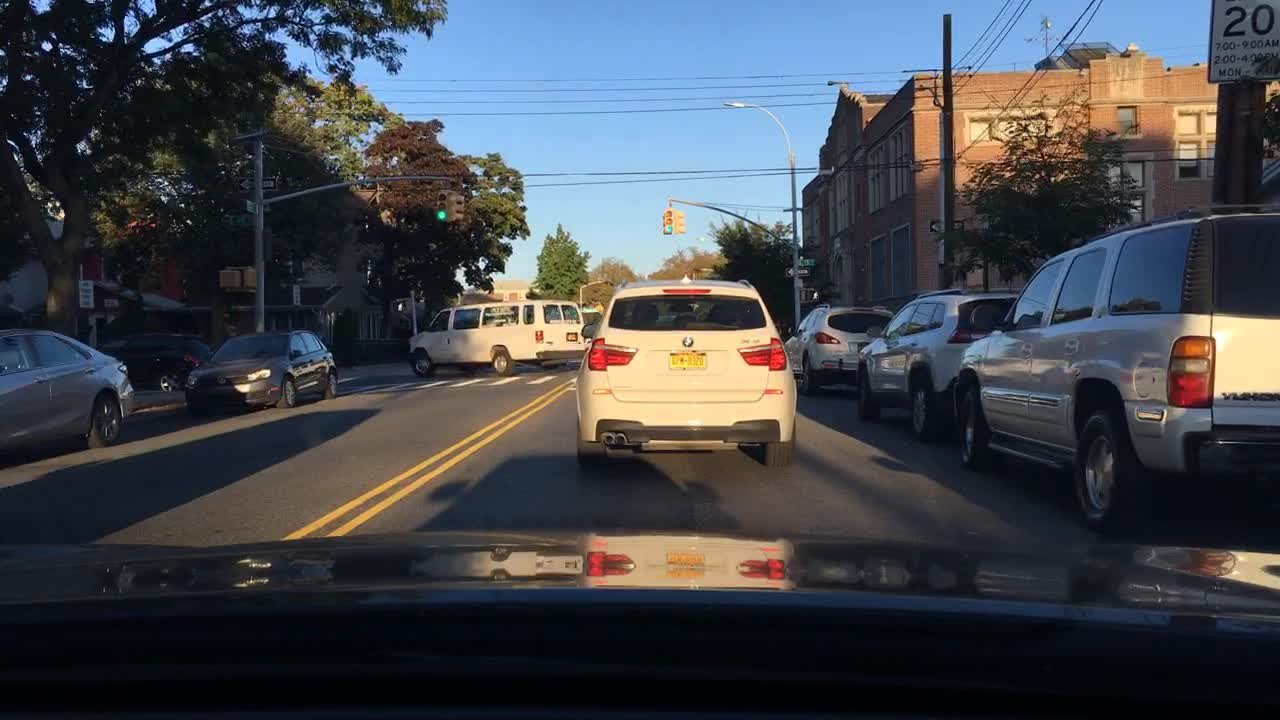car: (944, 197, 1279, 545), (570, 266, 801, 470), (851, 285, 1027, 448), (0, 326, 138, 464), (403, 296, 589, 379), (182, 323, 342, 417), (780, 302, 892, 398), (94, 329, 217, 394)
traffic light: (215, 268, 244, 290), (449, 192, 466, 222), (435, 188, 448, 222), (661, 207, 676, 236), (672, 209, 688, 234), (241, 268, 259, 290), (805, 285, 823, 304), (391, 298, 406, 313), (798, 287, 810, 302), (598, 302, 607, 315), (593, 302, 602, 315)
traffic sign: (1200, 0, 1279, 89), (234, 174, 280, 192), (77, 278, 96, 309), (928, 217, 965, 232), (227, 214, 258, 228), (242, 197, 261, 216), (785, 265, 810, 277), (581, 305, 600, 315), (799, 256, 817, 264)
